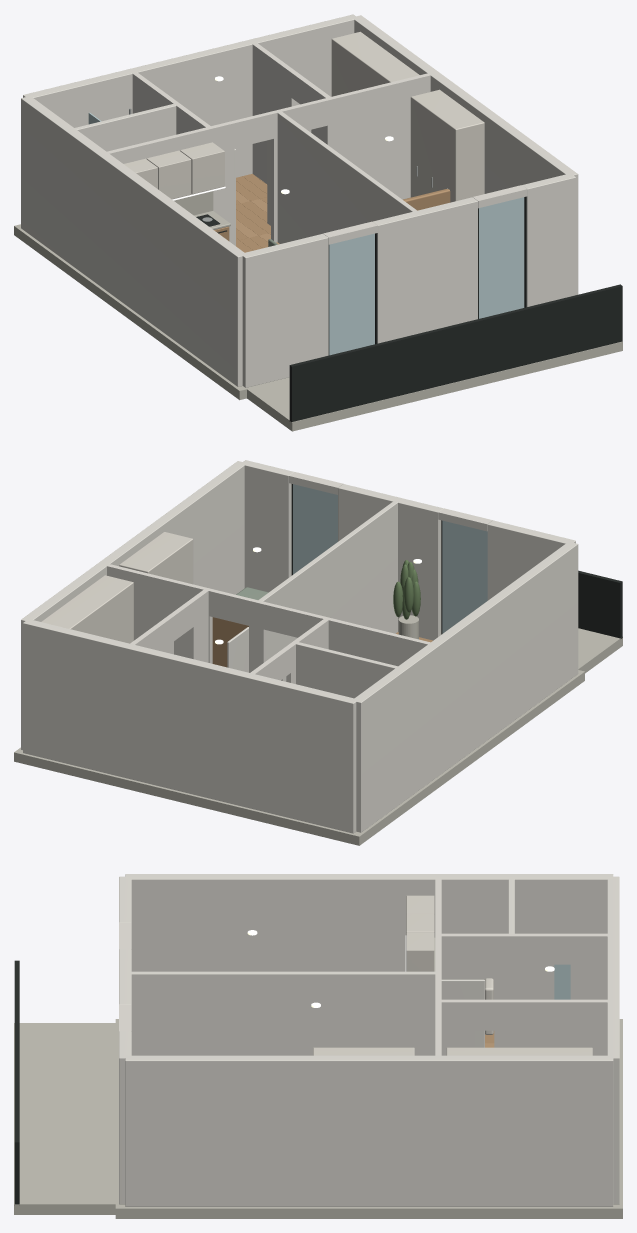
File: interior-2kk.glb
3 renders of one model, top to bottom at view 1: azimuth 30°, elevation 25°; view 2: azimuth 150°, elevation 25°; view 3: azimuth 270°, elevation 25°, orthographic. The views are drawn at different scales.
Parts seen in each view (by area): view 1: External left, Balcony railing, External rear, South facade pier.001, South facade pier, Bedroom divider, Bedroom / hall pier B, Full height wardrobe, External right, South facade pier.002, South glazing, South glazing.001 (+17 smaller); view 2: External rear, External left, Bedroom divider, External right, Subfloor, South facade pier.001, South facade pier.002, South glazing, Full height wardrobe.001, Bedroom / hall pier B, South facade pier, Bath WC separator (+17 smaller); view 3: External right, External left, Bedroom divider, Balcony floor, Subfloor, Storage partition pier B, External rear, Bath partition pier B, Storage partition pier A, WC partition pier B, WC partition lintel, Balcony railing (+14 smaller).
Part boxes in pixels (bbox=[...]): External left: bbox=[21, 96, 246, 386]; Balcony railing: bbox=[289, 284, 622, 421]; External rear: bbox=[23, 14, 357, 177]; South facade pier.001: bbox=[373, 197, 477, 343]; South facade pier: bbox=[242, 233, 328, 387]; Bedroom divider: bbox=[277, 111, 416, 243]; Bedroom / hall pier B: bbox=[325, 72, 432, 199]; Full height wardrobe: bbox=[410, 89, 484, 202]; External right: bbox=[352, 15, 578, 294]; South facade pier.002: bbox=[522, 173, 575, 306]; South glazing: bbox=[329, 233, 374, 355]; South glazing.001: bbox=[479, 197, 524, 318]; External rear: bbox=[23, 619, 357, 833]; External left: bbox=[352, 542, 578, 832]; Bedroom divider: bbox=[257, 501, 397, 660]; External right: bbox=[21, 461, 246, 750]; Subfloor: bbox=[14, 670, 584, 845]; South facade pier.001: bbox=[338, 484, 443, 640]; South facade pier.002: bbox=[241, 460, 293, 592]; South glazing: bbox=[442, 520, 487, 633]; Full height wardrobe.001: bbox=[41, 575, 133, 643]; Bedroom / hall pier B: bbox=[102, 564, 212, 663]; South facade pier: bbox=[487, 520, 575, 600]; Bath WC separator: bbox=[296, 642, 397, 698]; External right: bbox=[125, 1055, 613, 1206]; External left: bbox=[125, 874, 613, 999]; Bedroom divider: bbox=[131, 971, 437, 1055]; Balcony floor: bbox=[14, 1023, 118, 1214]; Subfloor: bbox=[115, 1019, 622, 1218]; Storage partition pier B: bbox=[519, 999, 608, 1055]; External rear: bbox=[607, 876, 619, 1204]; Bath partition pier B: bbox=[570, 933, 613, 999]; Storage partition pier A: bbox=[441, 999, 474, 1055]; WC partition pier B: bbox=[494, 933, 511, 1047]; WC partition lintel: bbox=[449, 933, 494, 964]; Balcony railing: bbox=[14, 960, 19, 1204].
Bounding box in the file's own units: 7.05 × 2.72 × 9.58.
